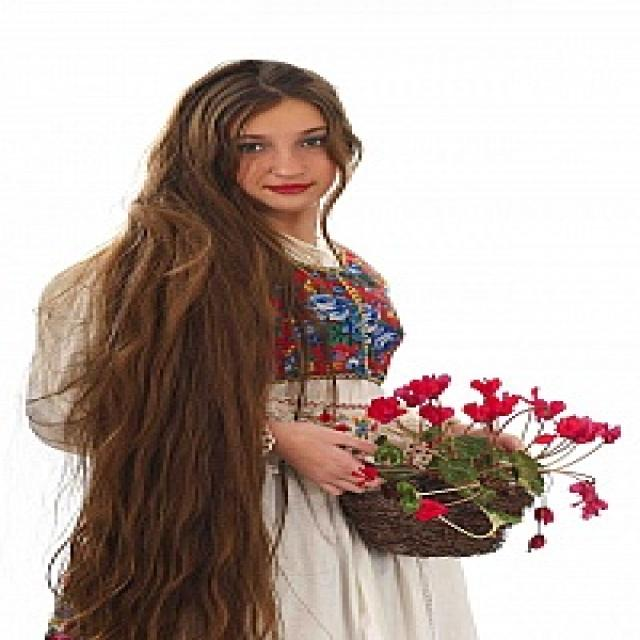Eyes: (224, 125, 328, 158)
